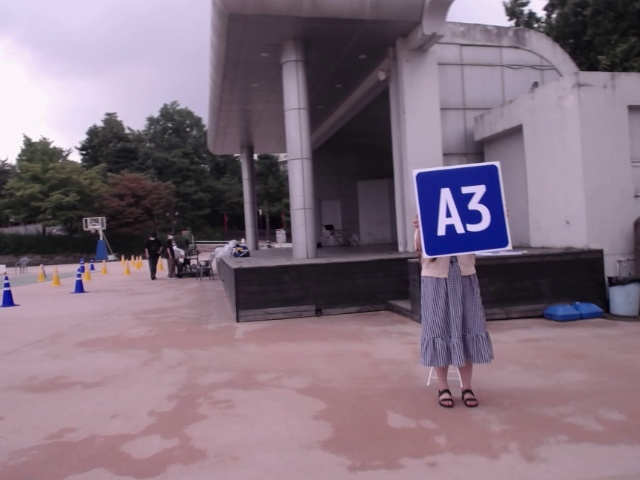delivery_a3: (413, 163, 511, 258)
